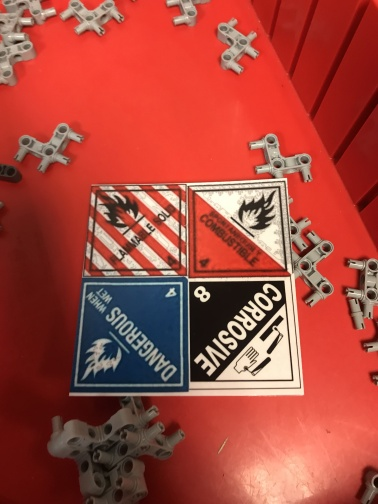Corrosive: (188, 278, 302, 390)
DangerousWhenWet: (69, 278, 189, 393)
FlammableSolid: (84, 184, 187, 276)
SpontaneouslyCombustible: (188, 179, 293, 275)
